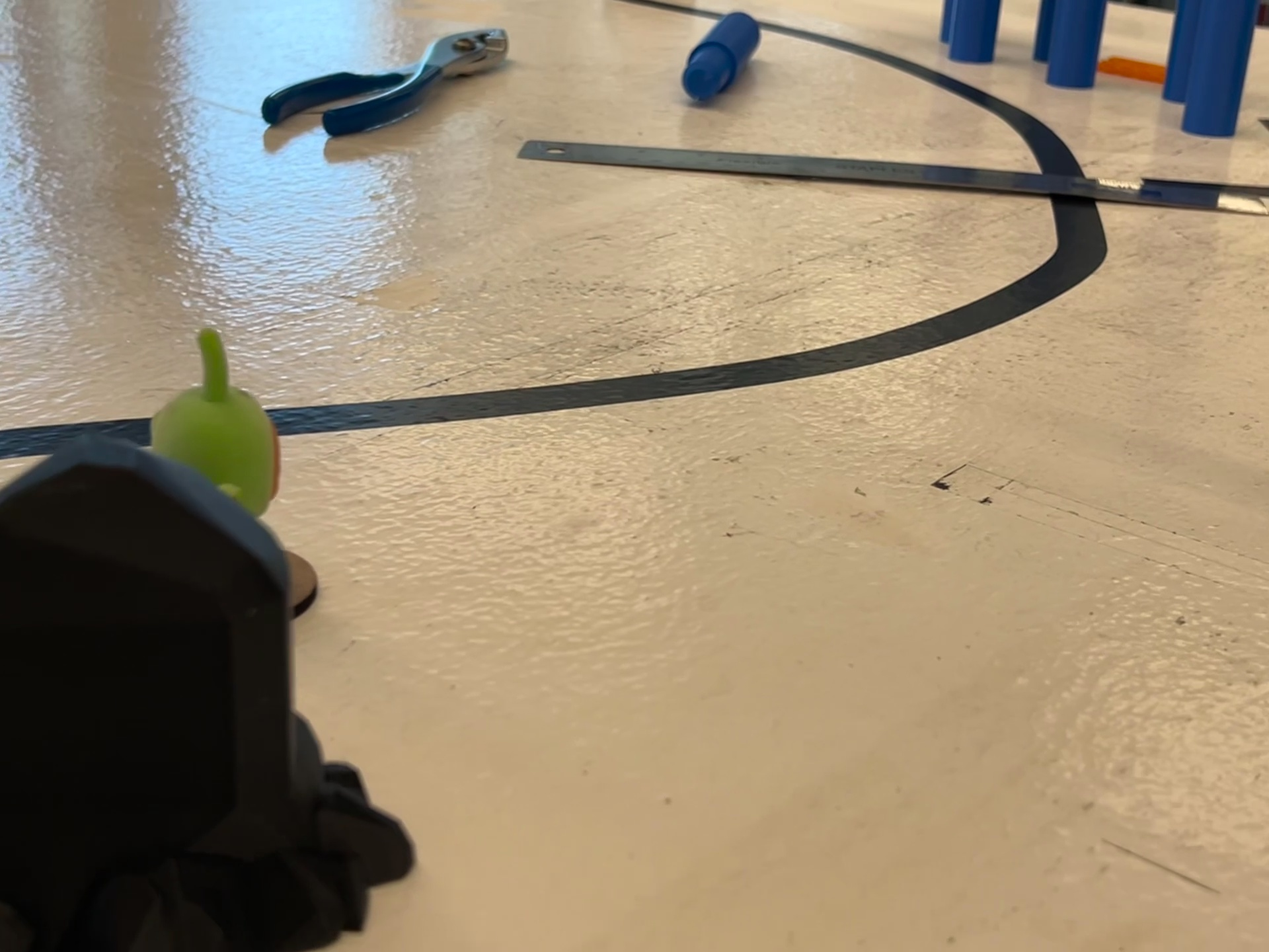teletubby: (151, 329, 280, 518)
